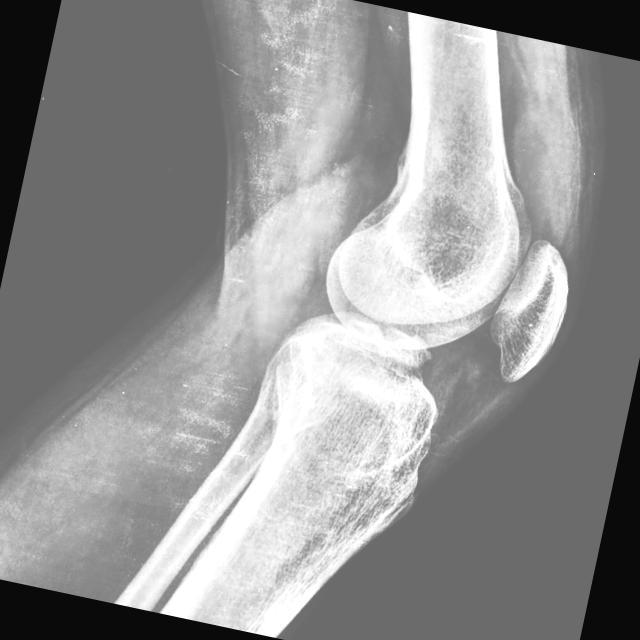Avlusion Fracture: (343, 313, 445, 386)
